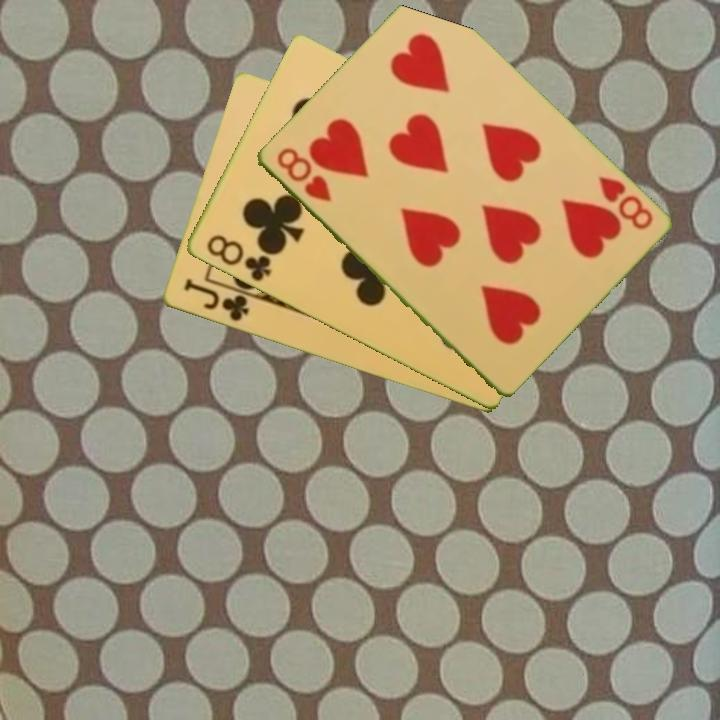8c: (202, 231, 274, 285)
8h: (272, 144, 334, 205), (594, 173, 655, 233)
Jc: (179, 275, 251, 325)
